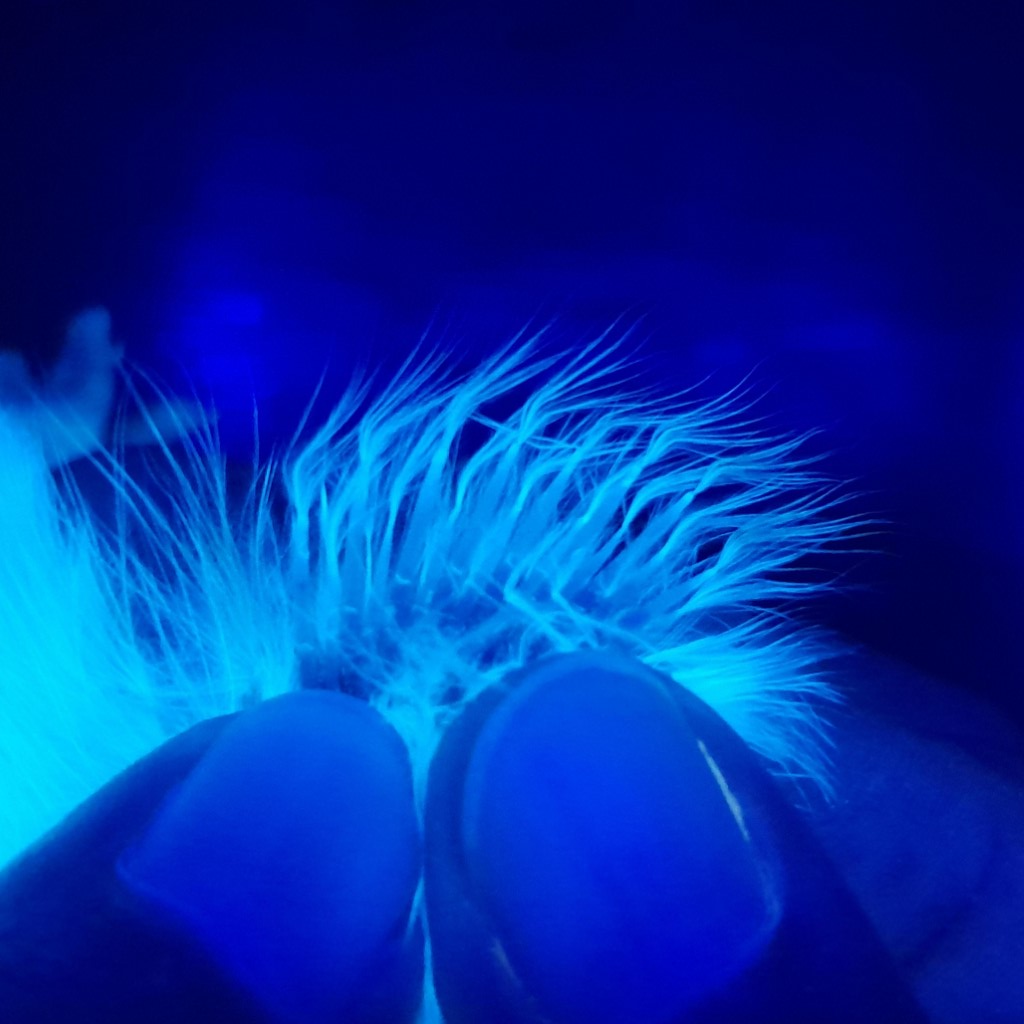female: (283, 415, 736, 690)
